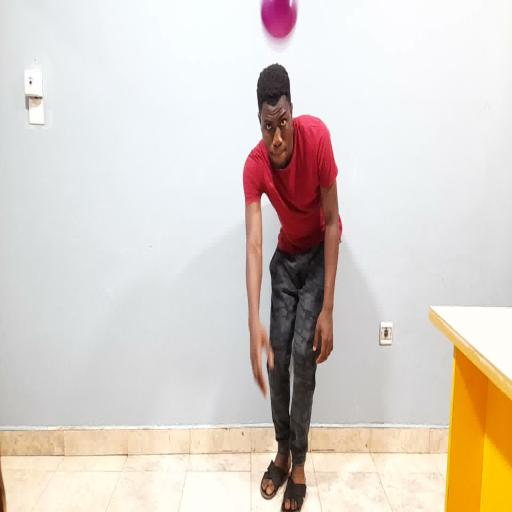plastic-ball: (262, 0, 297, 39)
